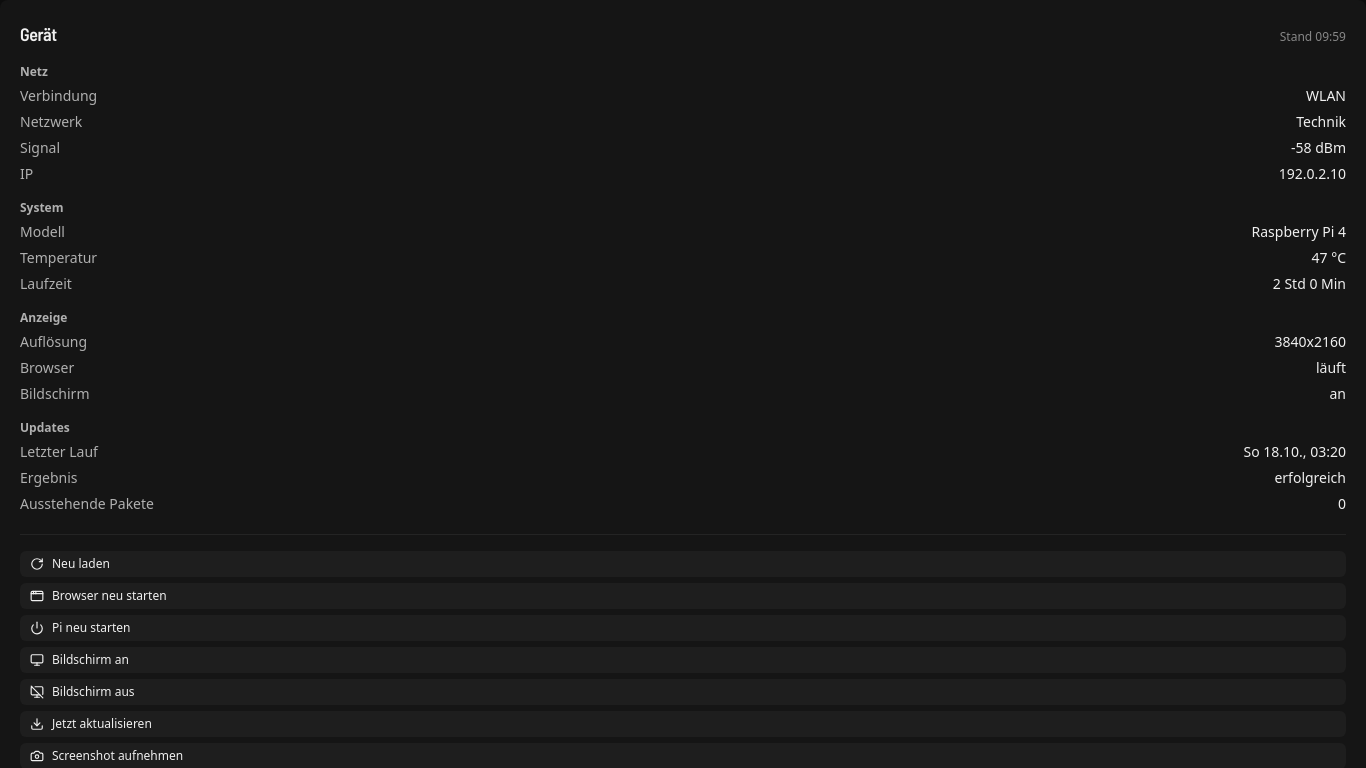
it: DeviceBox › Neustart fragt nach und sendet erst nach Bestätigung
Click the button "Pi neu starten": (91, 628) [20,615,1346,641]
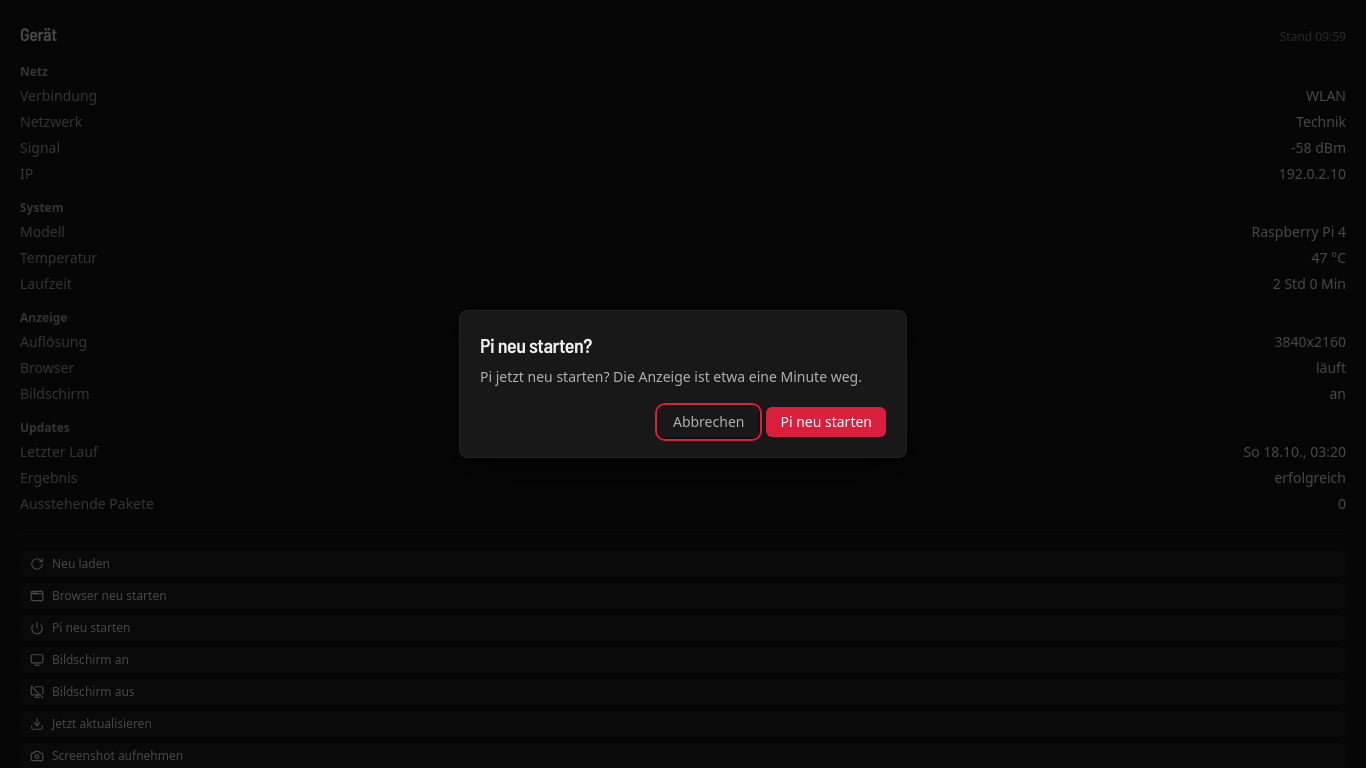
Expected: the dialog shows "Pi jetzt neu starten? Die Anzeige ist etwa eine Minute weg.", [480,367,862,386]
Click the button "Abbrechen": (709, 422) [659,407,758,437]
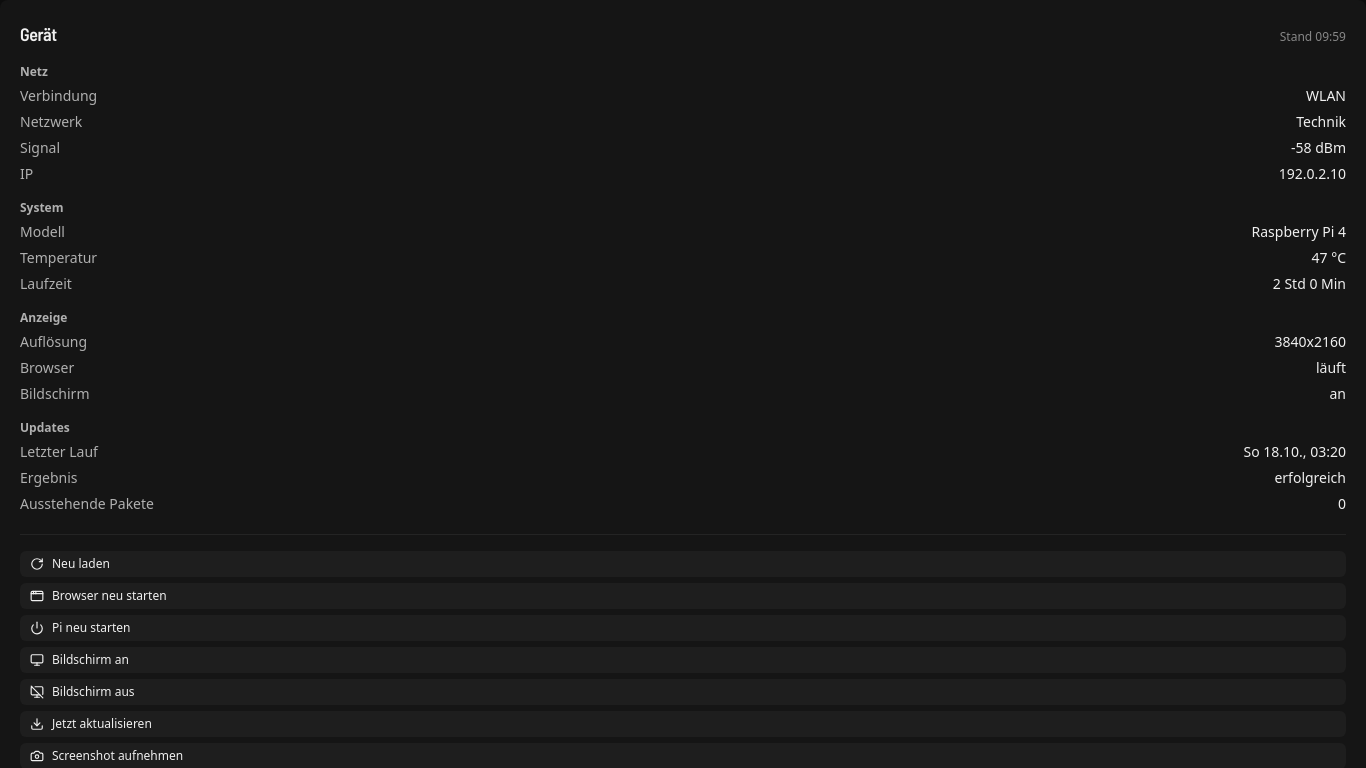
Click the button "Pi neu starten": (91, 628) [20,615,1346,641]
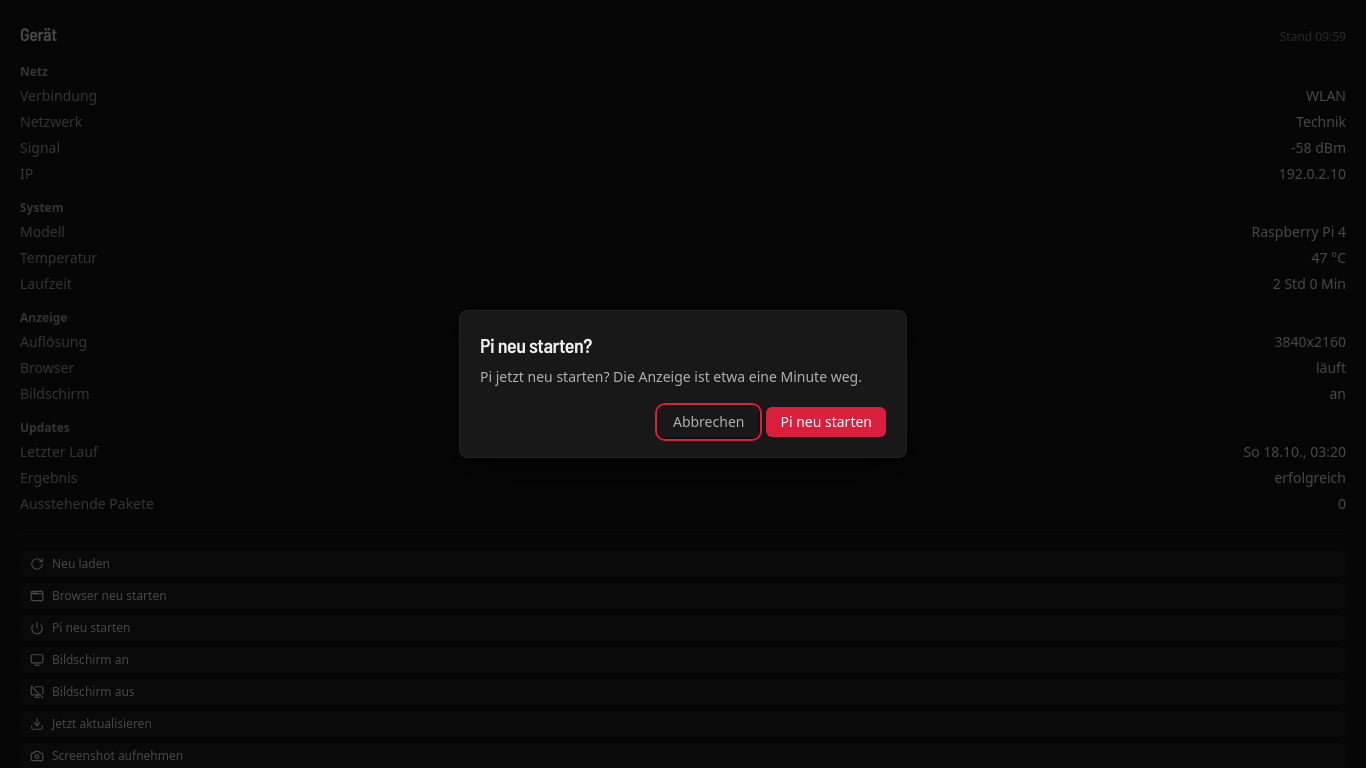
Click the button "Pi neu starten": (826, 422) [766,407,886,437]
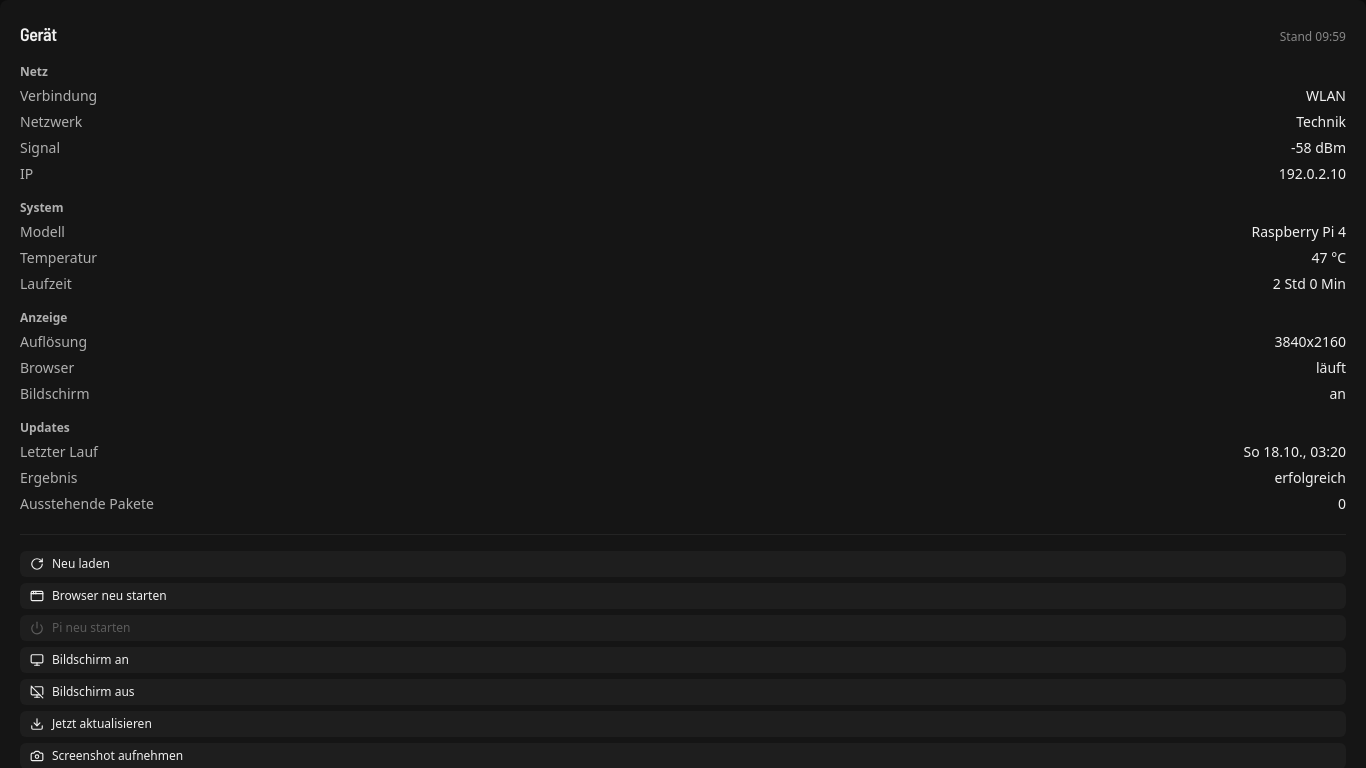
Expected: the dialog is gone
